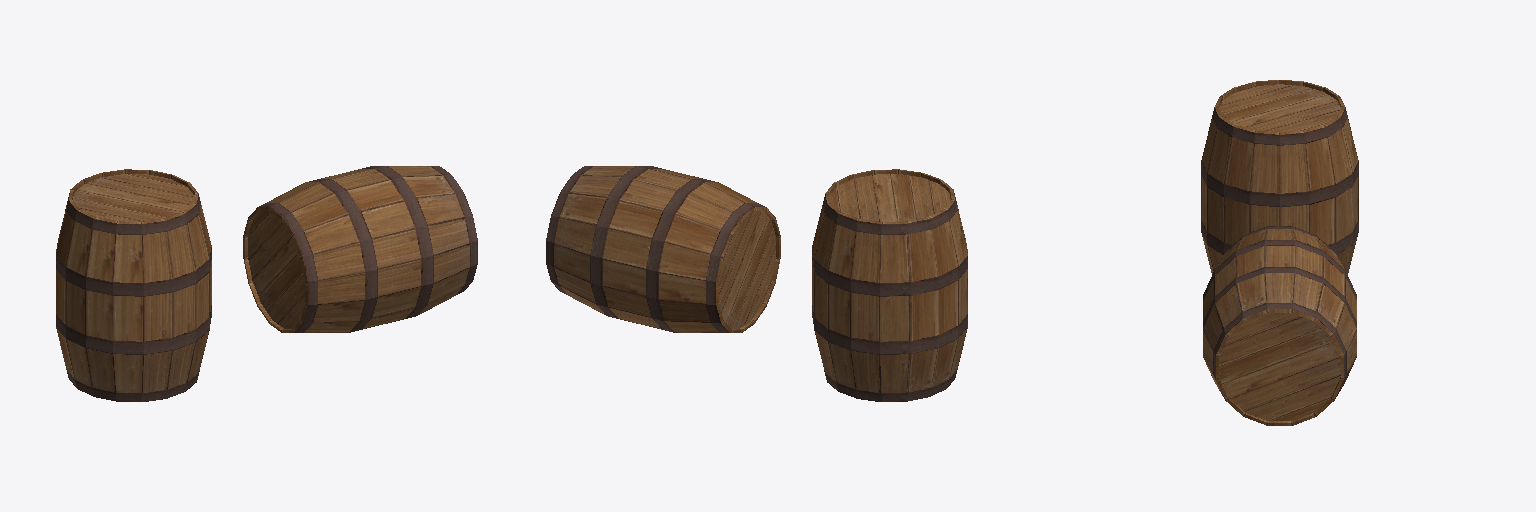
The picture shows the model from 3 angles: view 1: azimuth 30°, elevation 25°; view 2: azimuth 150°, elevation 25°; view 3: azimuth 270°, elevation 25°; orthographic projection.
Parts seen in each view (by area): view 1: skin; view 2: skin; view 3: skin.
Part boxes in pixels (x1,y1,x2,y2): skin: (56,166,477,401); skin: (546,166,967,401); skin: (1201,80,1358,425).
Size of the model in its own units: 6.71 by 3.02 by 2.4.
1 materials, 1 textured.